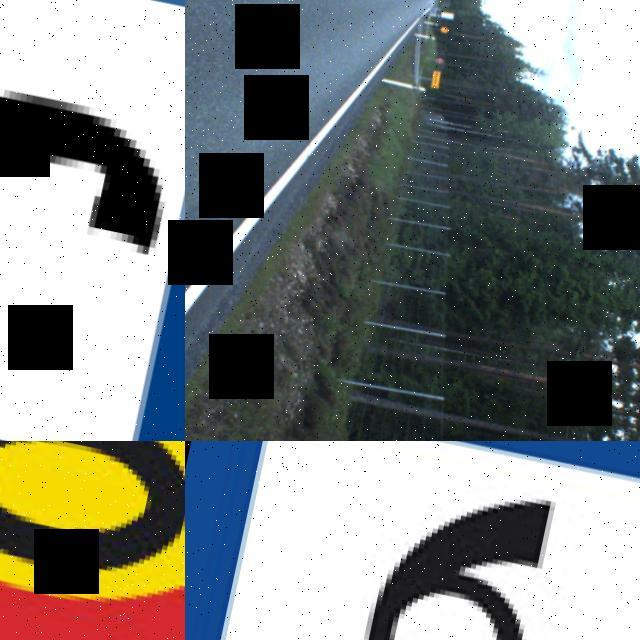173: (428, 68, 444, 90)
36: (438, 23, 452, 34)
55: (0, 441, 185, 640)
89: (185, 441, 640, 640)
Telephone: (0, 0, 185, 441)
